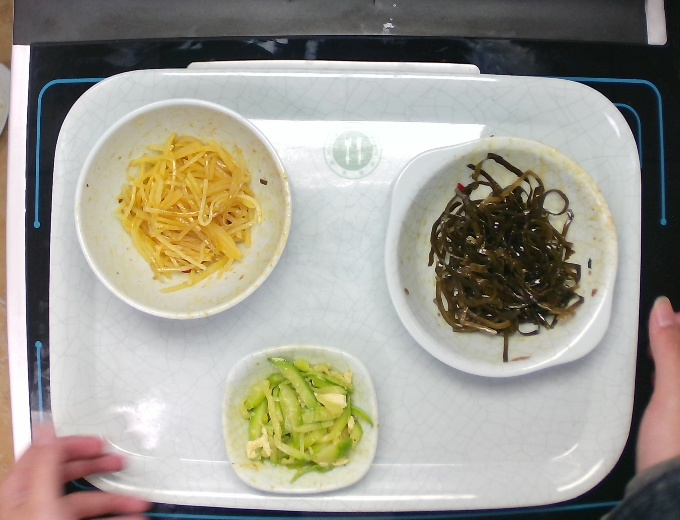JYsf-Fan_Wan: (69, 92, 296, 324)
JYsf-Shuang_Er_Wan: (380, 132, 625, 382)
JYsf-Si_Fang_Die: (217, 340, 383, 499)
